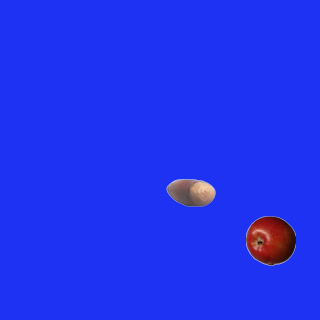Apple Braeburn: (245, 215, 295, 265)
Hazelnut: (165, 167, 215, 217)
